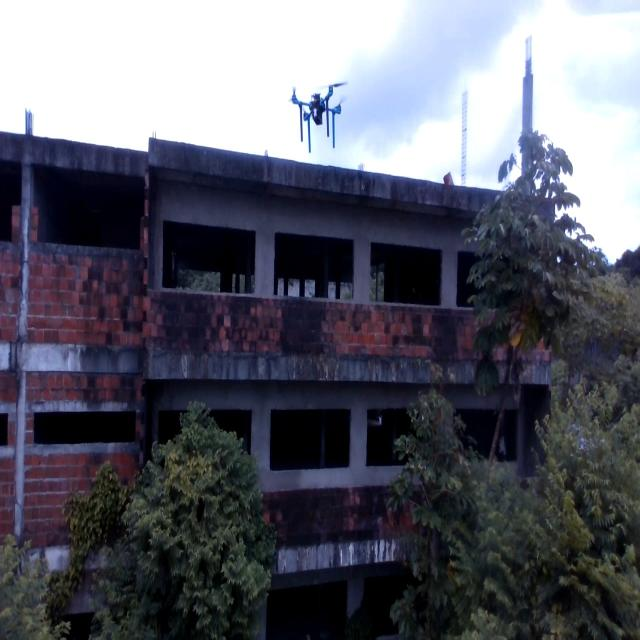-uav-: (278, 64, 354, 158)
